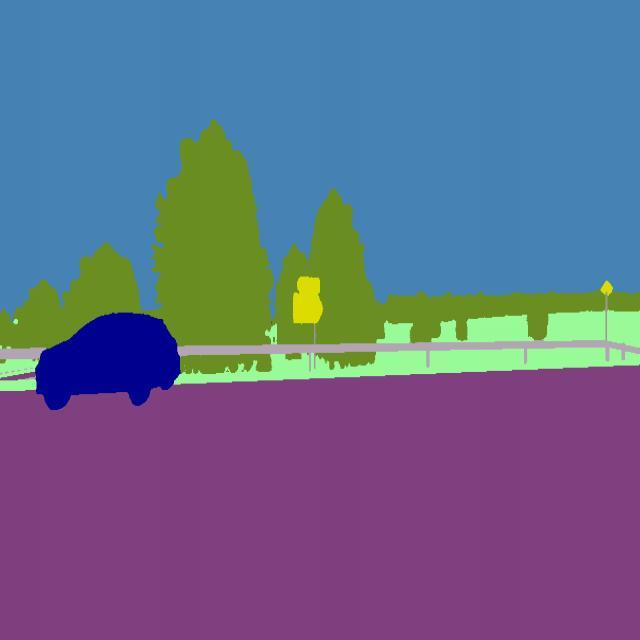safe: (28, 308, 184, 410)
